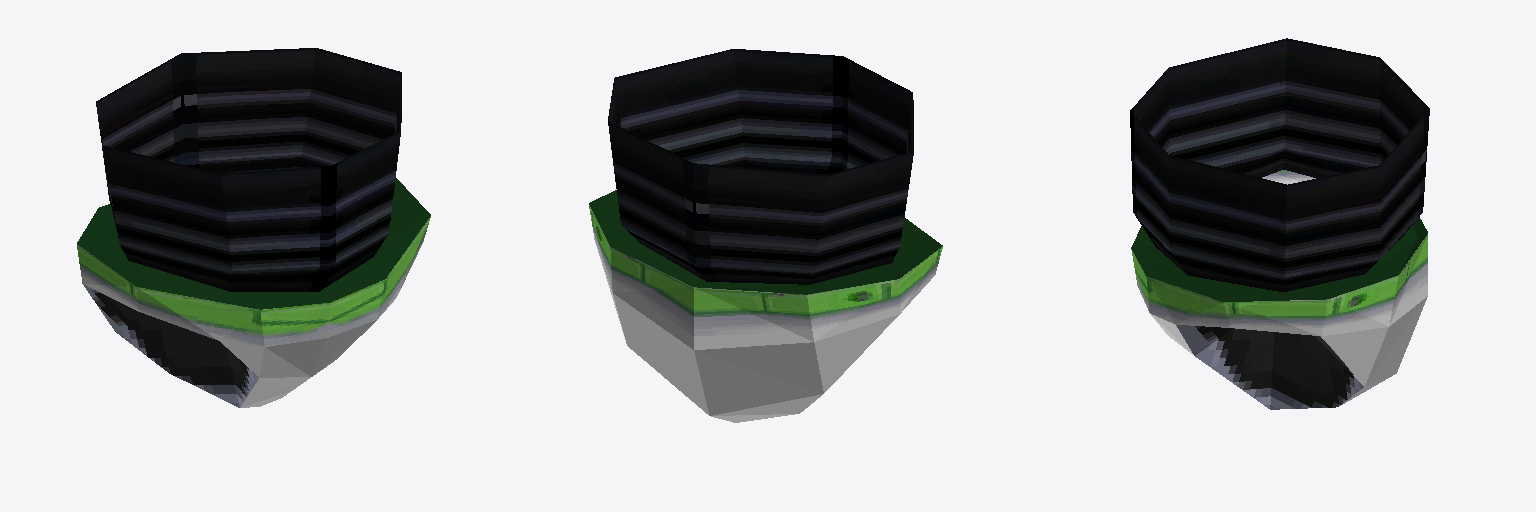
3 views of the same model, side by side, from view 1: azimuth 30°, elevation 25°; view 2: azimuth 150°, elevation 25°; view 3: azimuth 270°, elevation 25° (orthographic).
Parts seen in each view (by area): view 1: buzzlightyHip_buzzlighty.011; view 2: buzzlightyHip_buzzlighty.011; view 3: buzzlightyHip_buzzlighty.011.
Part boxes in pixels (x1,y1,x2,y2): buzzlightyHip_buzzlighty.011: (77,48,430,407); buzzlightyHip_buzzlighty.011: (589,49,942,422); buzzlightyHip_buzzlighty.011: (1130,38,1429,409).
Bounding box in the file's own units: 0.1966 × 0.1786 × 0.1643.
1 materials, 1 textured.